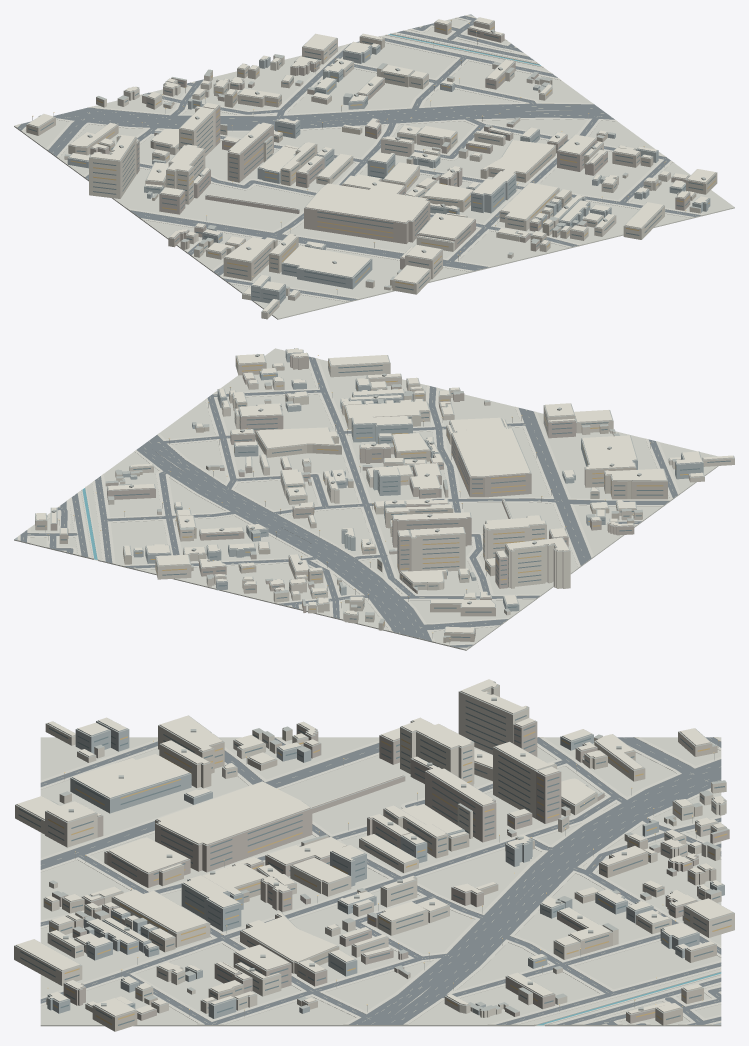
3 renders of one model, top to bottom at view 1: azimuth 30°, elevation 25°; view 2: azimuth 150°, elevation 25°; view 3: azimuth 270°, elevation 25°, orthographic. The views are drawn at different scales.
Visible parts, largest first — view 1: city; view 2: city; view 3: city.
Part boxes in pixels (x1,y1,x2,y2): city: (14, 14, 734, 319); city: (14, 348, 734, 650); city: (14, 679, 734, 1031).
Bounding box in the file's own units: 529 × 42.35 × 530.
